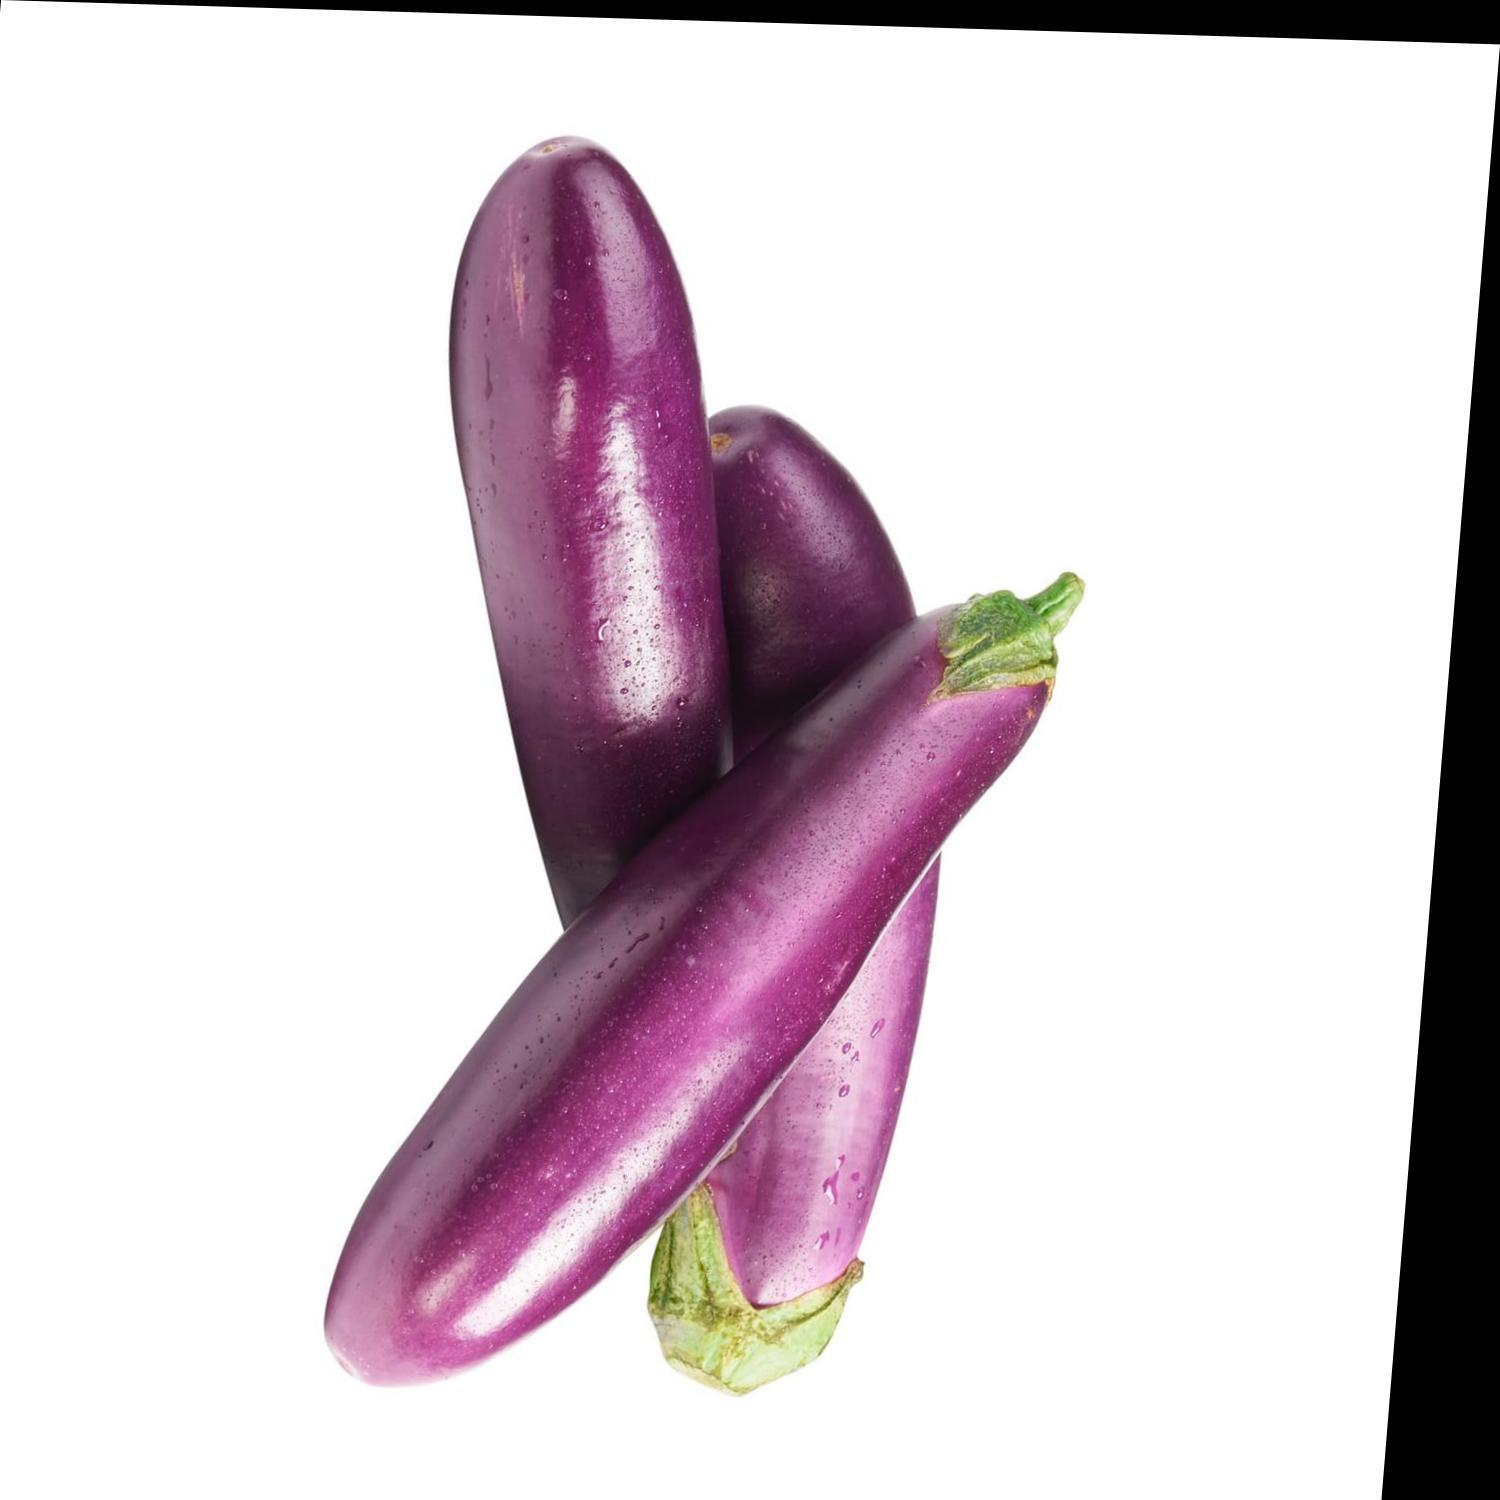eggplant: (202, 107, 1181, 1430)
